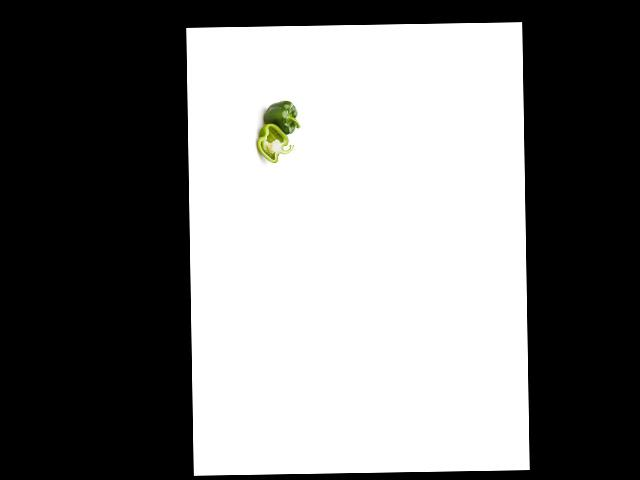bell_pepper: (257, 121, 295, 165)
